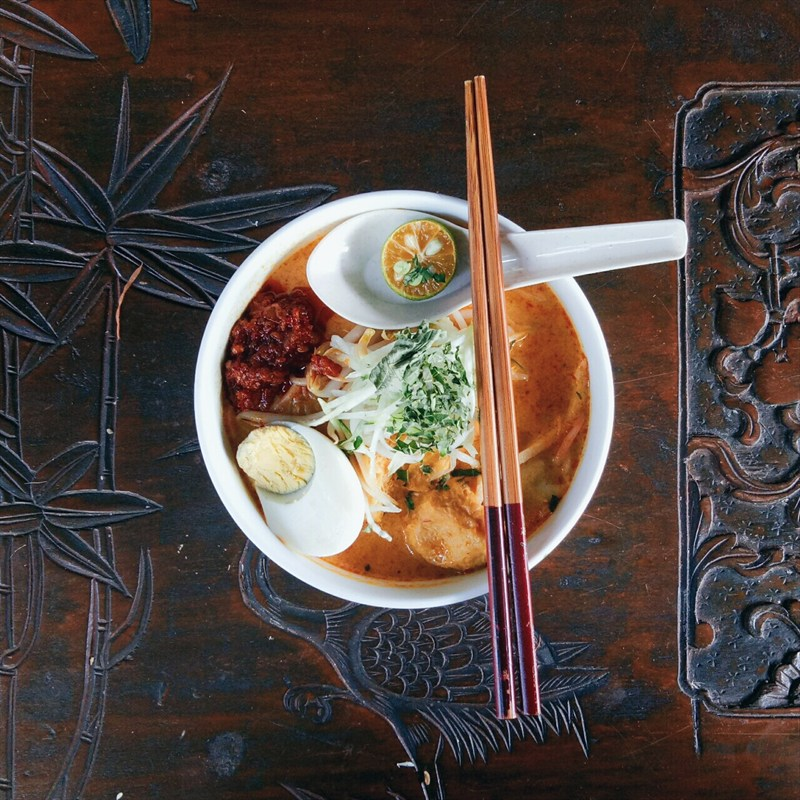Telur Balado: (187, 172, 638, 615)
